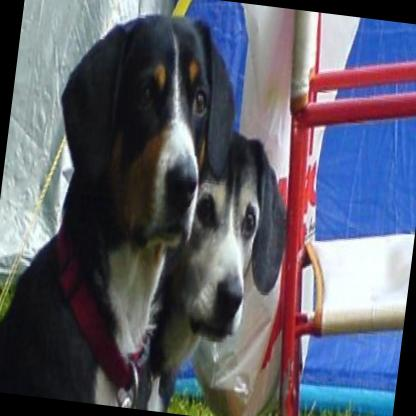EntleBucher: (0, 0, 246, 412), (148, 116, 296, 416)
